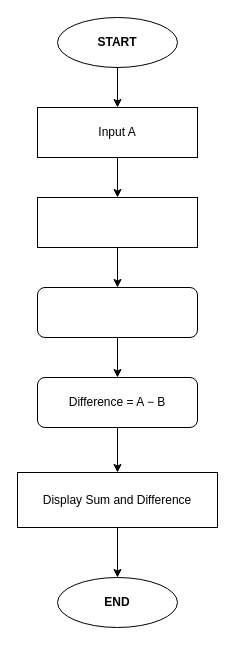
The diagram is 235 pixels wide and 645 high, and some of its shapes have lost their labels. Each missing label, with the centre of its shape:
Input B: the point at 117,222
Sum = A + B: the point at 117,312
